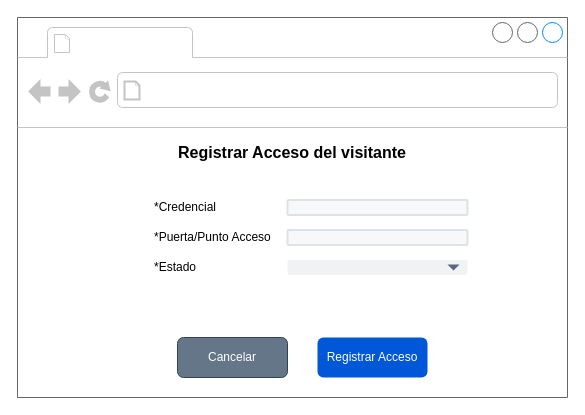
This 585x415 diagram has some shape labels left out. Here are the shapes that lost their labels. From the top down, the centre of each, then its label:
point 132,42: Page 1
point 272,90: https://www.draw.io
